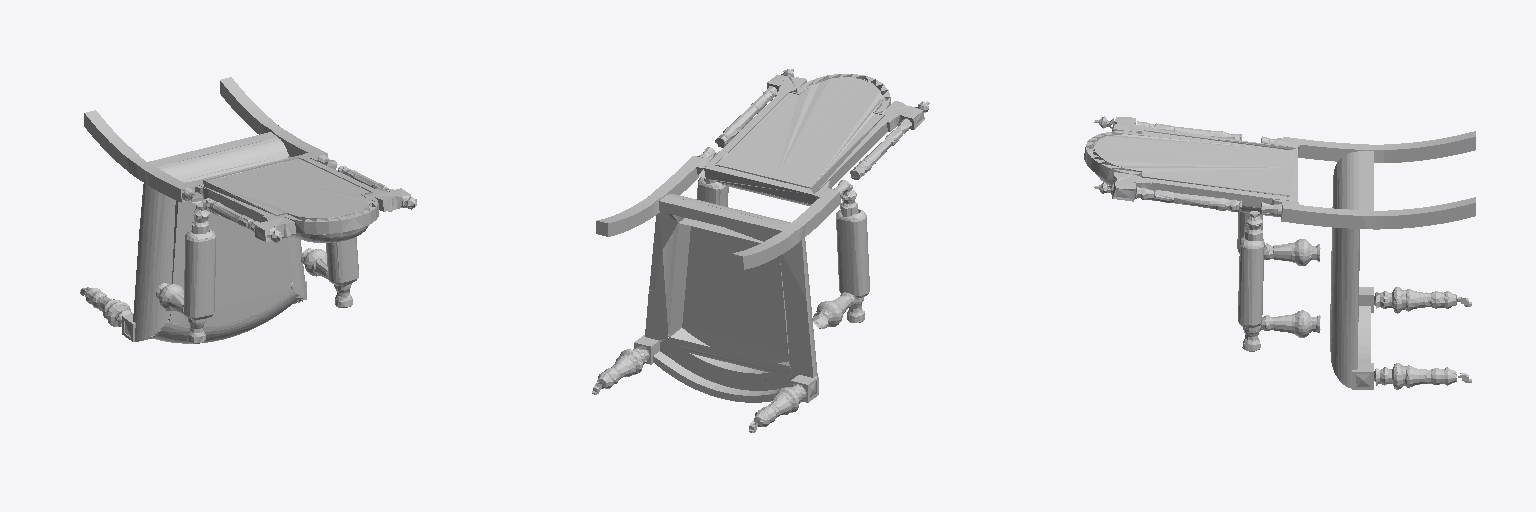
File: chair_0303_Clustering_90pct.obj
The picture shows the model from 3 angles: view 1: azimuth 30°, elevation 25°; view 2: azimuth 150°, elevation 25°; view 3: azimuth 270°, elevation 25°; orthographic projection.
Bounding box in the file's own units: 0.5316 × 0.6176 × 1.